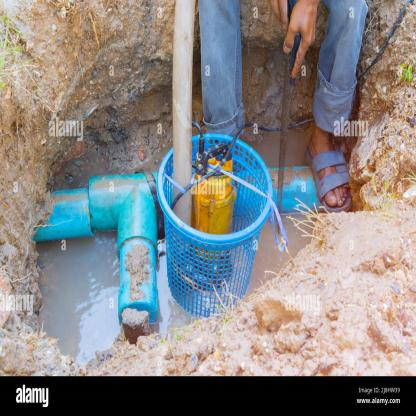PVC: (34, 167, 321, 326)
